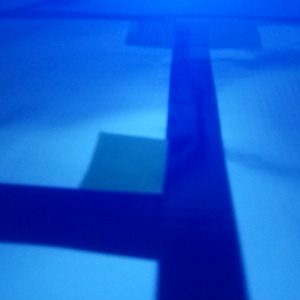bottom_left: (125, 15, 207, 49)
bottom_right: (175, 16, 264, 50)
top_left: (81, 131, 220, 250)
